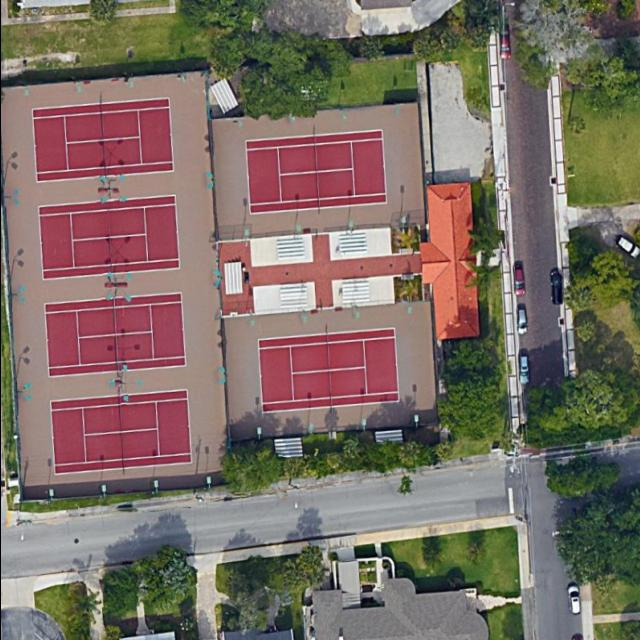small-vehicle: (614, 235, 639, 260), (509, 263, 527, 297), (565, 582, 582, 615), (548, 271, 562, 307), (512, 307, 529, 336), (497, 22, 509, 61), (516, 354, 531, 385)
